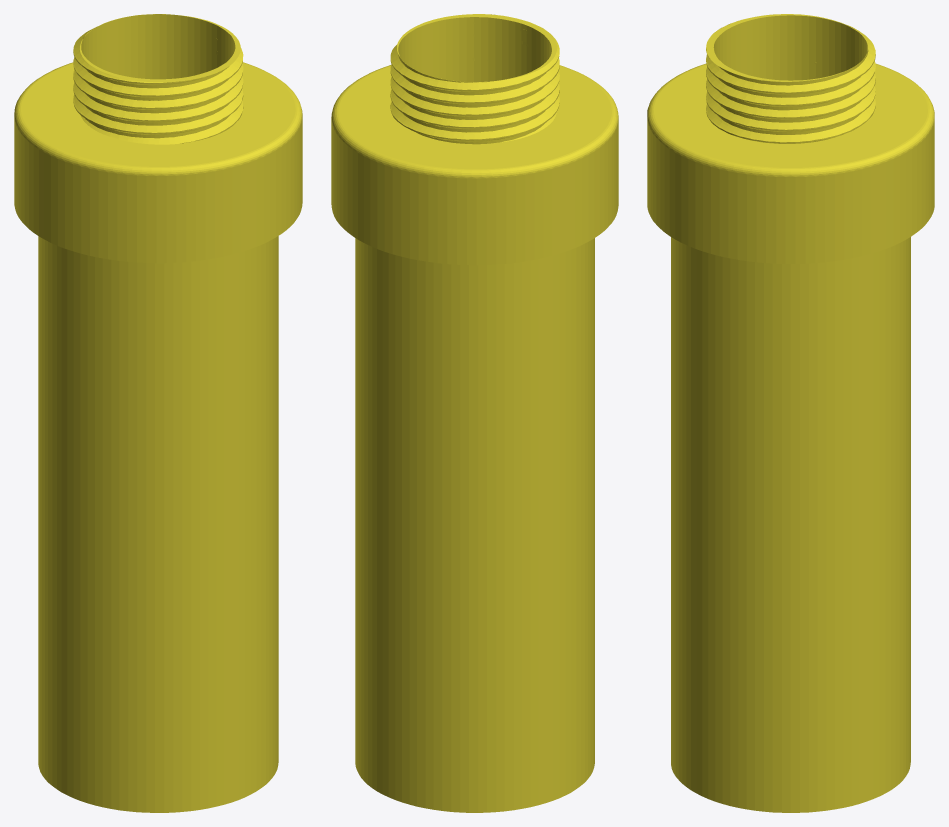
The model's file is corps_produit_06.glb.
3 renders of one model, left to right at view 1: azimuth 30°, elevation 25°; view 2: azimuth 150°, elevation 25°; view 3: azimuth 270°, elevation 25°, orthographic.
Parts seen in each view (by area): view 1: bouteille prototype V3 corps seul; view 2: bouteille prototype V3 corps seul; view 3: bouteille prototype V3 corps seul.
Part boxes in pixels (x1,y1,x2,y2): bouteille prototype V3 corps seul: (14, 14, 302, 812); bouteille prototype V3 corps seul: (331, 14, 618, 812); bouteille prototype V3 corps seul: (647, 14, 934, 812).
Size of the model in its own units: 83.43 by 229 by 83.43.
